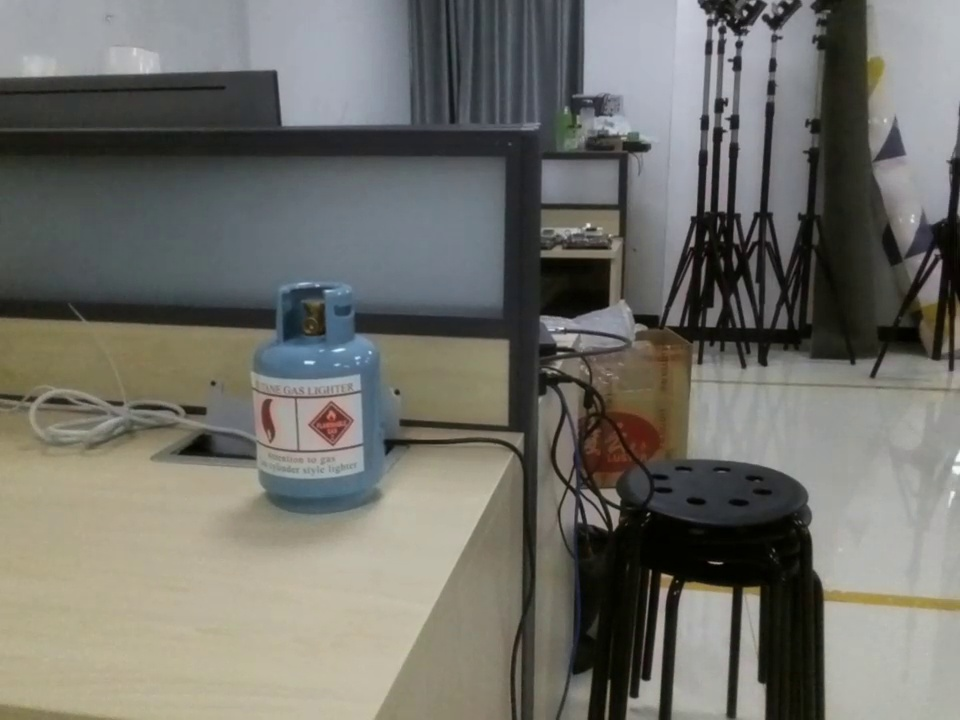gas tank: (234, 277, 406, 513)
